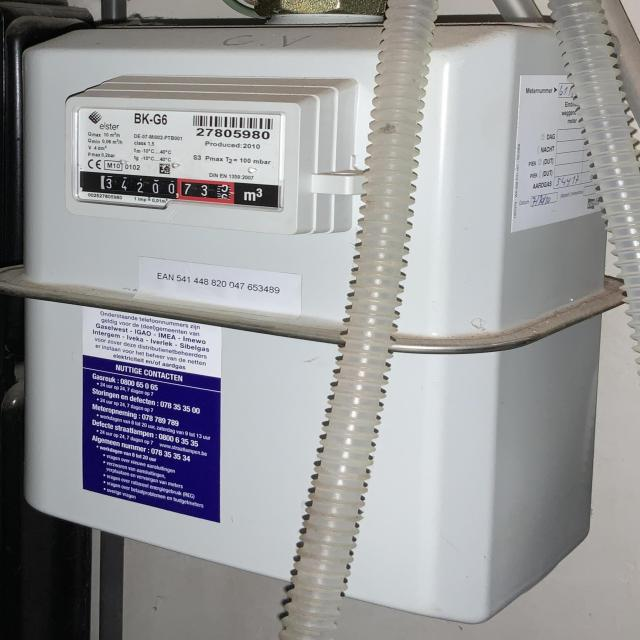gaz_meter: (73, 102, 298, 211)
indication: (79, 171, 237, 203)
